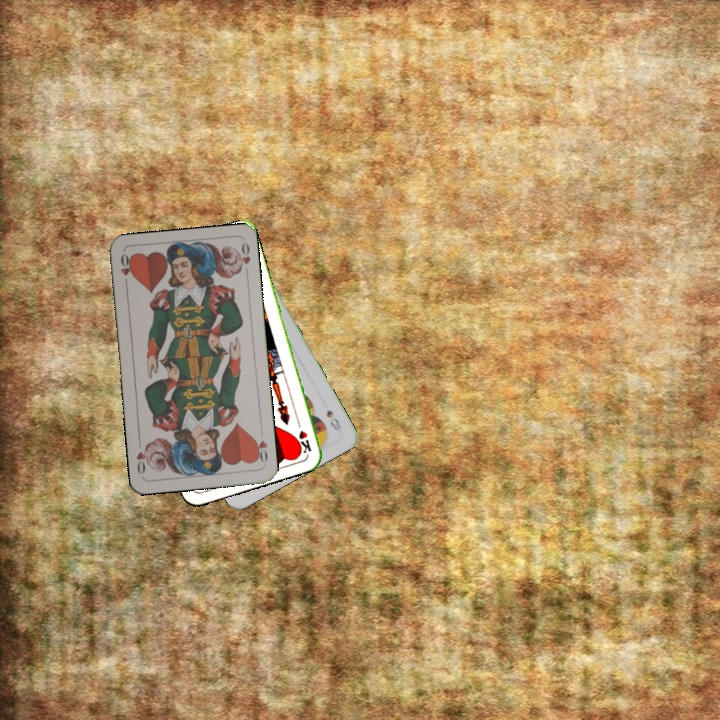HK: (292, 415, 314, 456)
HO: (116, 249, 134, 290), (251, 435, 270, 465)
S8: (322, 406, 344, 435)
